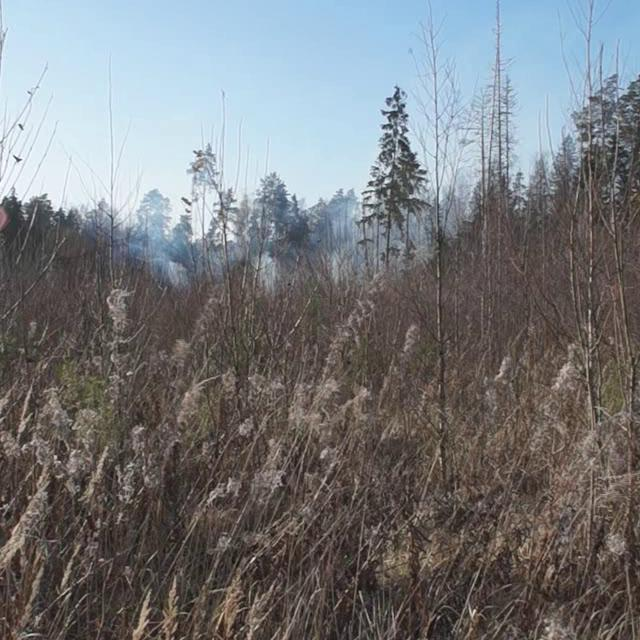Smoke: (84, 164, 498, 304)
